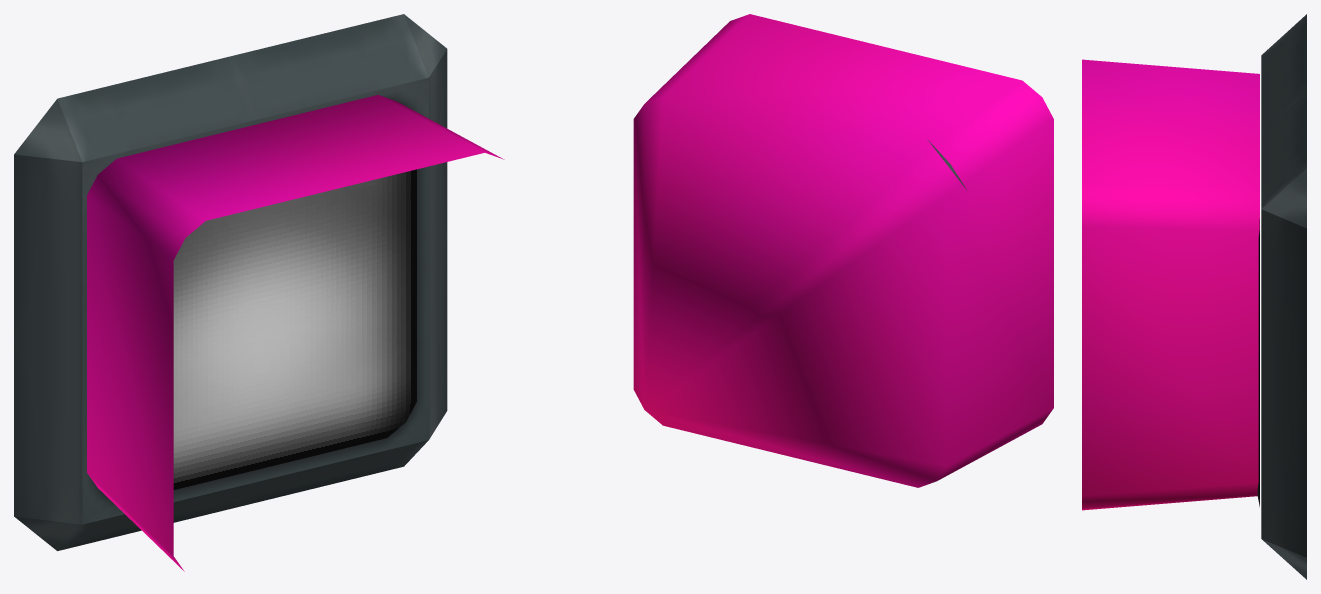
The picture shows the model from 3 angles, left to right: view 1: azimuth 30°, elevation 25°; view 2: azimuth 150°, elevation 25°; view 3: azimuth 270°, elevation 25°; orthographic projection. The views are drawn at different scales.
Visible parts, largest first — view 1: monitors.model_1x1-MeshNodes["mesh_frame"], monitors.model_1x1-MeshNodes["mesh_screens_on-core"], monitors.model_1x1-MeshNodes["mesh_screens_on"]; view 2: monitors.model_1x1-MeshNodes["mesh_screens_on"]; view 3: monitors.model_1x1-MeshNodes["mesh_screens_on"], monitors.model_1x1-MeshNodes["mesh_frame"], monitors.model_1x1-MeshNodes["mesh_screens_on-core"].
Part boxes in pixels (<box>): monitors.model_1x1-MeshNodes["mesh_frame"]: <box>14,14,447,550</box>; monitors.model_1x1-MeshNodes["mesh_screens_on-core"]: <box>173,169,416,489</box>; monitors.model_1x1-MeshNodes["mesh_screens_on"]: <box>87,95,504,571</box>; monitors.model_1x1-MeshNodes["mesh_screens_on"]: <box>633,14,1053,487</box>; monitors.model_1x1-MeshNodes["mesh_screens_on"]: <box>1082,59,1259,510</box>; monitors.model_1x1-MeshNodes["mesh_frame"]: <box>1261,14,1306,579</box>; monitors.model_1x1-MeshNodes["mesh_screens_on-core"]: <box>1257,219,1259,506</box>.
Size of the model in its own units: 1.25 by 1.25 by 0.6174.
Materials: 4 (3 with a texture image).
